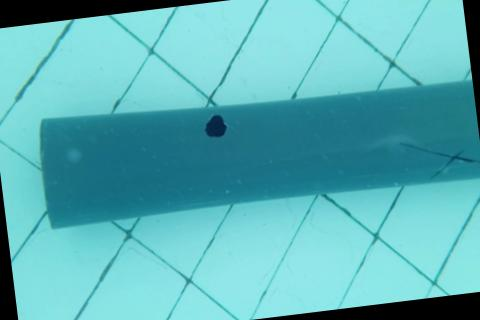kebocoran: (203, 113, 228, 140)
keretakan: (397, 131, 480, 184)
